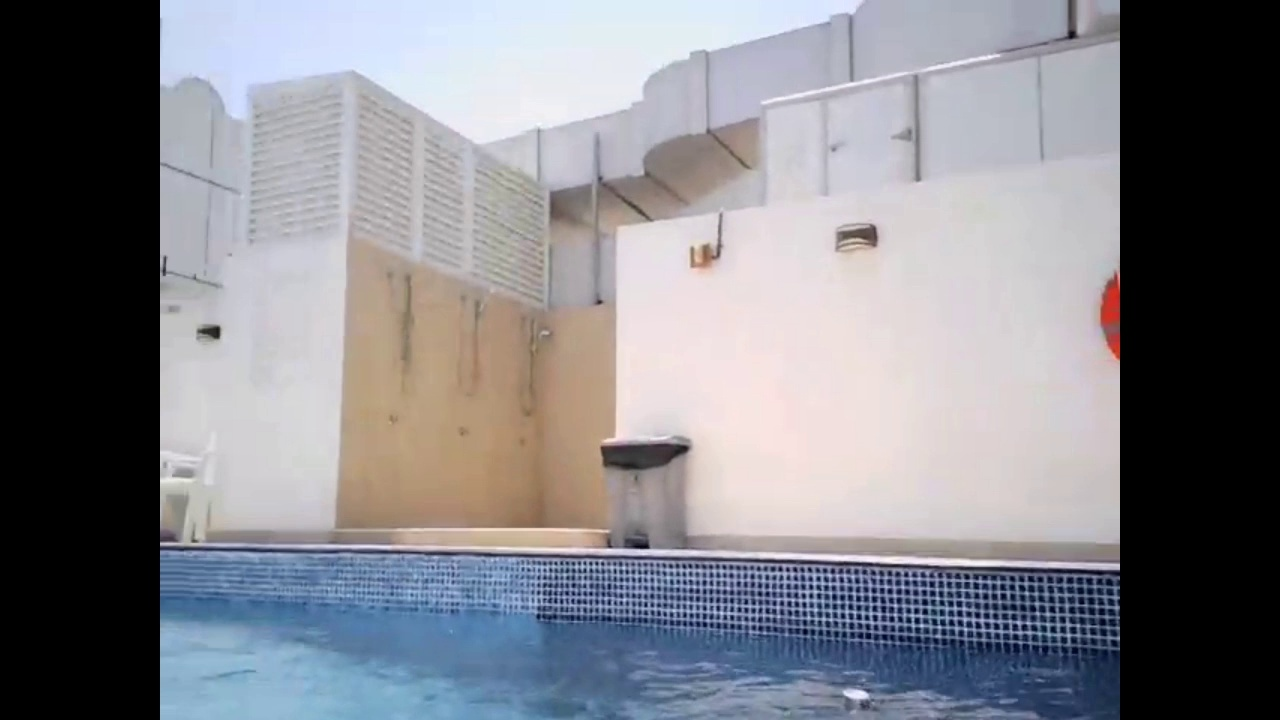debris: (836, 684, 875, 720)
